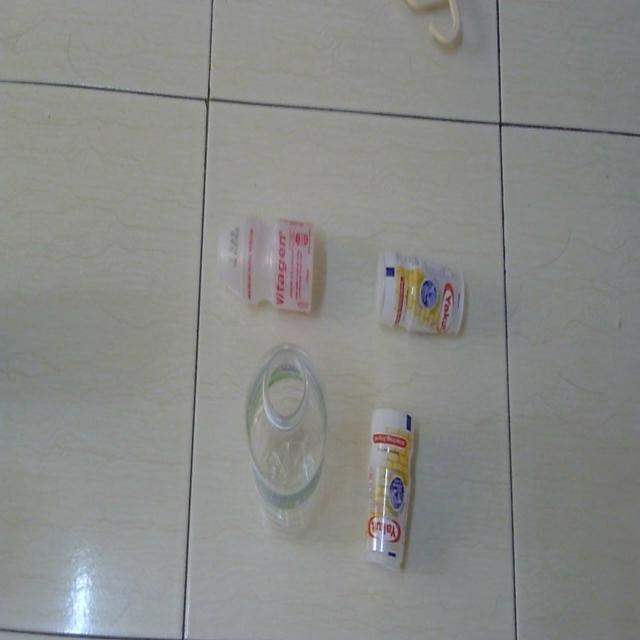plastic_laydown_0rotation: (214, 209, 318, 321), (374, 244, 468, 344)
plastic_laydown_90rotation: (363, 400, 416, 574)
plastic_standrotation: (242, 338, 332, 547)
